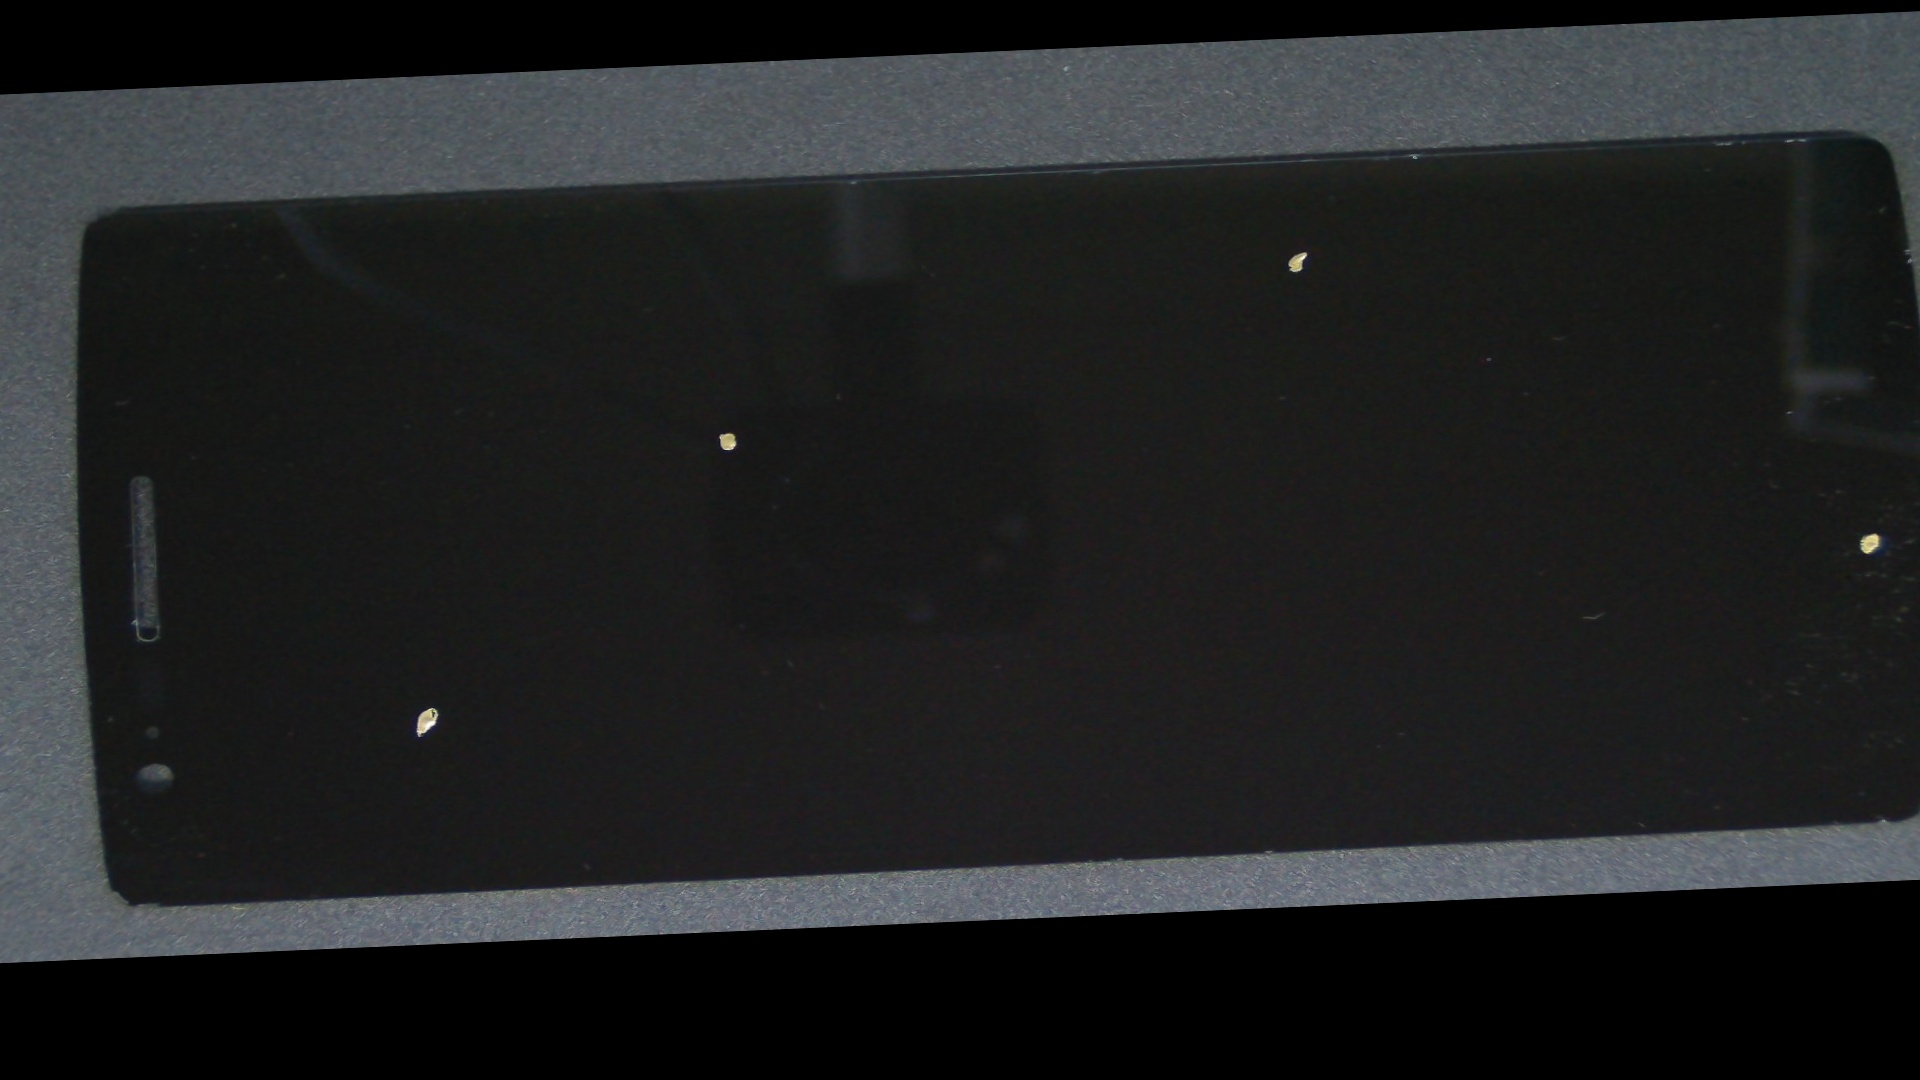oil: (898, 266, 1920, 829), (613, 115, 1920, 388), (324, 229, 1130, 633), (177, 380, 686, 955)
